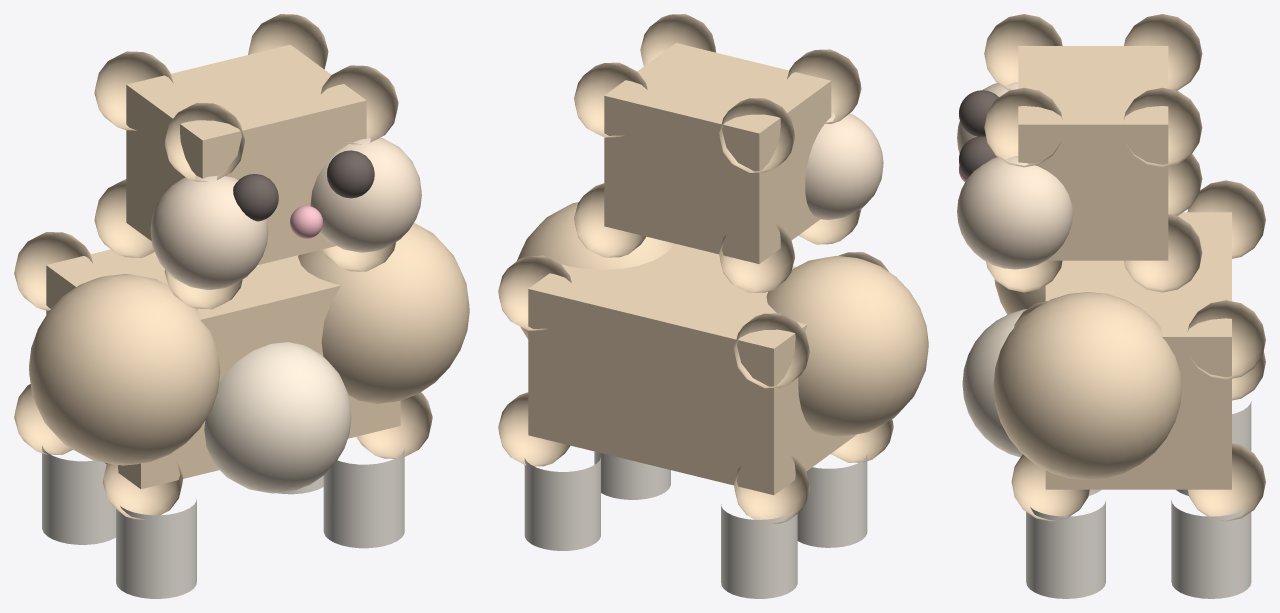
The model's file is cat.glb.
3 views of the same model, side by side, from view 1: azimuth 30°, elevation 25°; view 2: azimuth 150°, elevation 25°; view 3: azimuth 270°, elevation 25° (orthographic). The views are drawn at different scales.
Visible parts, largest first — view 1: cat; view 2: cat; view 3: cat.
Part boxes in pixels (x1,y1,x2,y2): cat: (14,14,469,598); cat: (498,14,928,598); cat: (957,14,1265,598).
Bounding box in the file's own units: 2.6 × 2.9 × 1.7.
